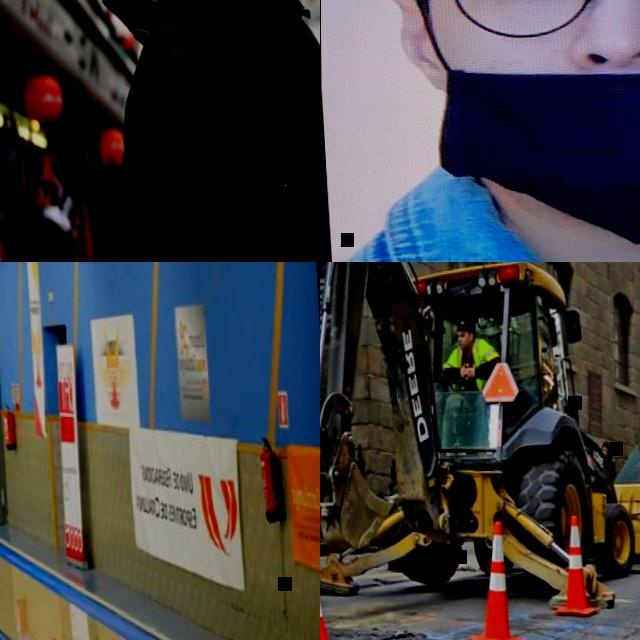Mask: (421, 0, 640, 260)
NO-Hardhat: (39, 176, 60, 193), (456, 318, 475, 332), (602, 439, 613, 449)
NO-Mask: (29, 196, 47, 210), (459, 337, 472, 350)
NO-Safety Vest: (157, 0, 320, 262), (22, 221, 78, 262), (606, 457, 615, 477)
Person: (320, 0, 640, 262), (81, 0, 320, 262), (0, 173, 86, 262), (439, 317, 502, 390), (600, 439, 616, 480)
Safety Cone: (462, 524, 522, 640), (549, 516, 597, 618), (320, 532, 354, 640)
Safety Vest: (450, 339, 492, 391)
machinery: (320, 262, 640, 625)
